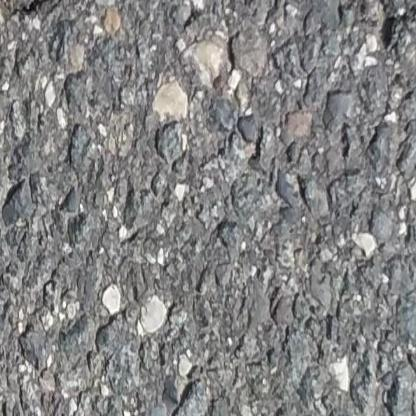Cracks: (0, 0, 97, 18), (323, 0, 357, 28)
